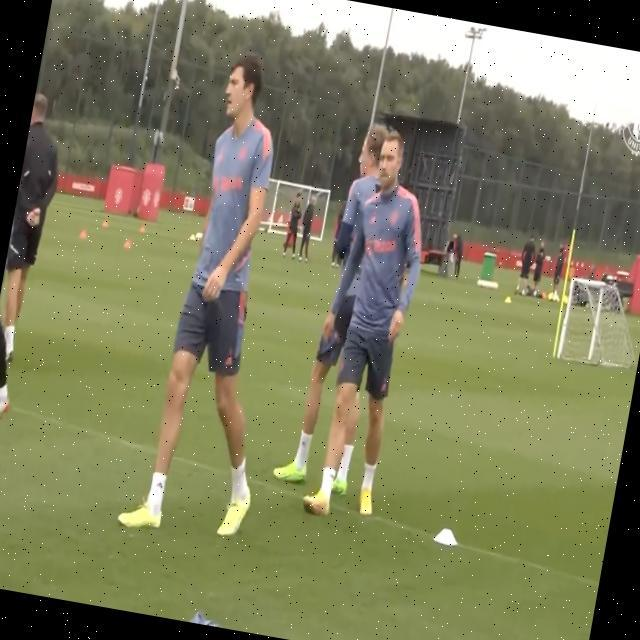Adidas: (224, 353, 235, 369), (155, 476, 165, 490)
